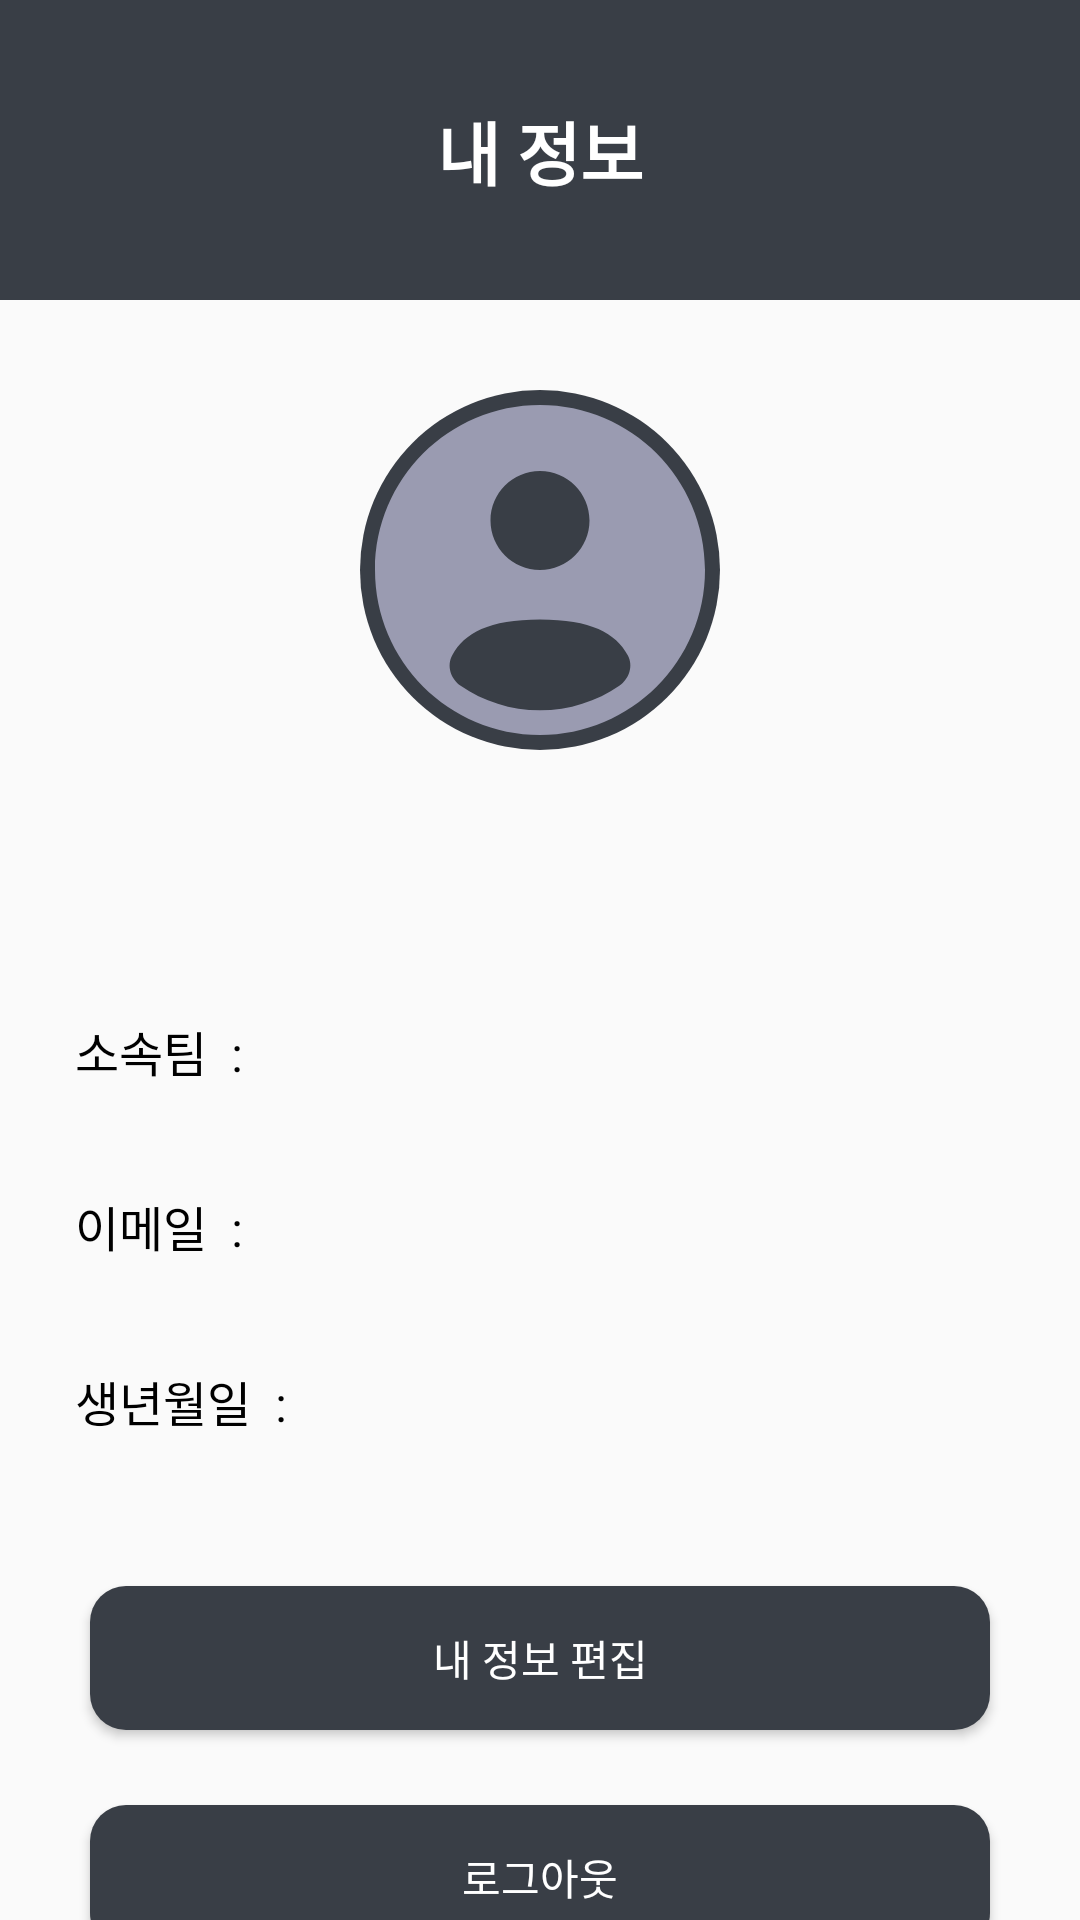

Screen size 1080 × 1920. Icon name, then its box in pixels as (x1, y1, x2, y2):
profile: (360, 390, 720, 750)
